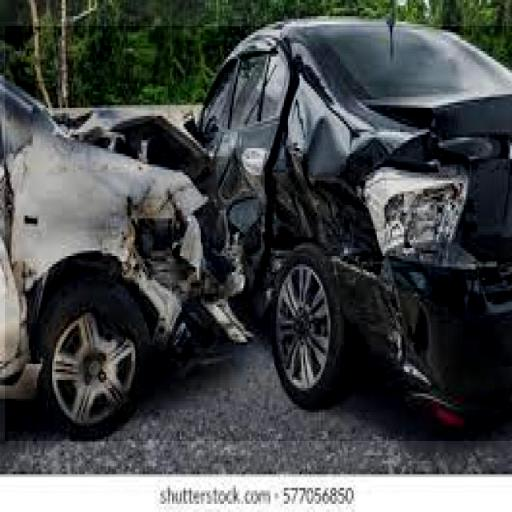小汽车撞小汽车: (5, 26, 512, 441)
